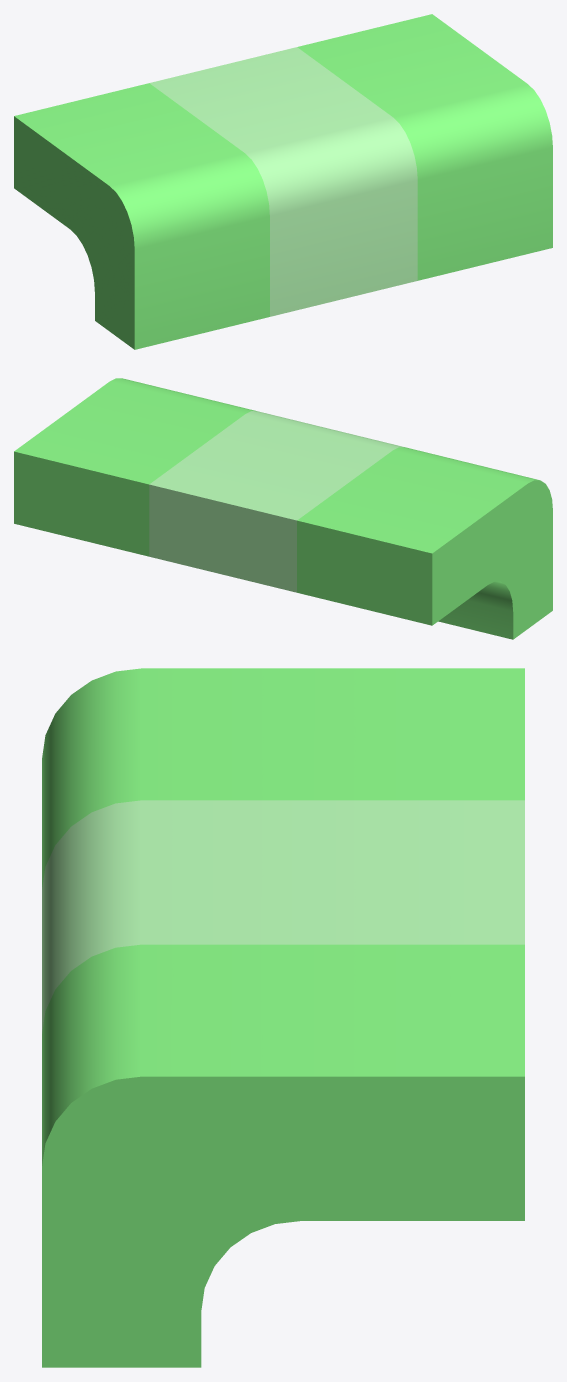
Rendered from Link F L Type.fbx.
3 views of the same model, one above another, from view 1: azimuth 30°, elevation 25°; view 2: azimuth 150°, elevation 25°; view 3: azimuth 270°, elevation 25° (orthographic). The views are drawn at different scales.
Parts seen in each view (by area): view 1: Link F L Type; view 2: Link F L Type; view 3: Link F L Type.
Boxes of the visible parts, bbox=[...] form: Link F L Type: bbox=[14, 14, 552, 349]; Link F L Type: bbox=[14, 378, 552, 639]; Link F L Type: bbox=[42, 668, 524, 1367].
Size of the model in its own units: 300 by 99.69 by 150.
